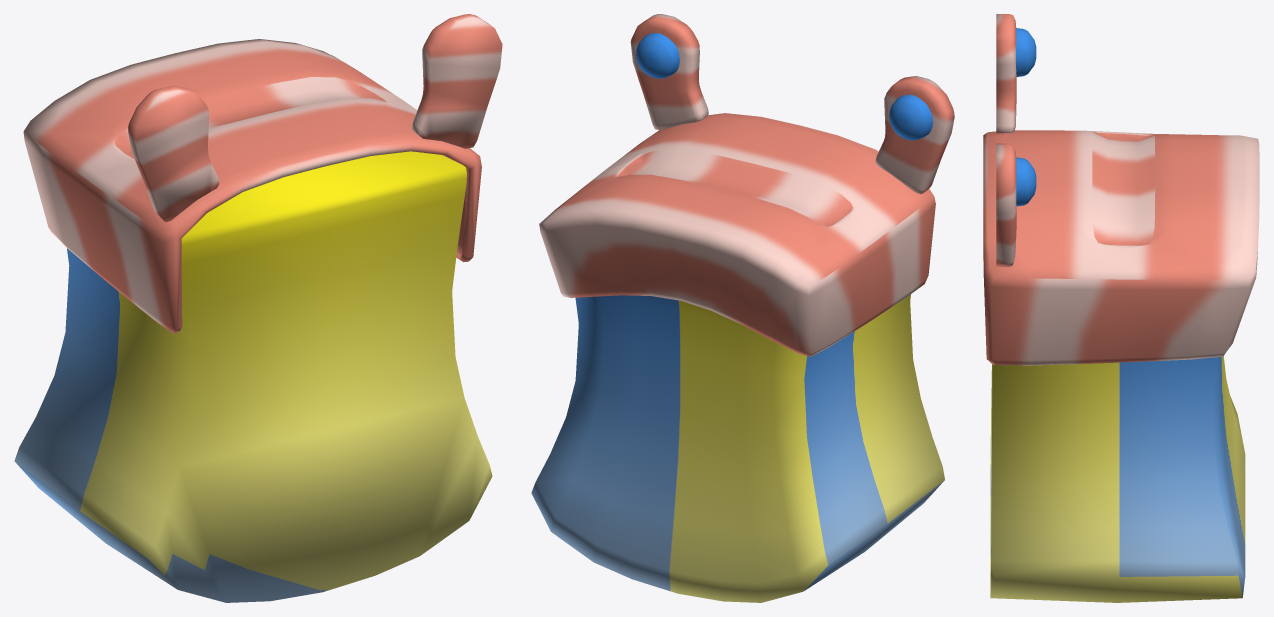
File: MailboxC_purple.fbx
The picture shows the model from 3 angles, left to right: view 1: azimuth 30°, elevation 25°; view 2: azimuth 150°, elevation 25°; view 3: azimuth 270°, elevation 25°; orthographic projection. The views are drawn at different scales.
Visible parts, largest first — view 1: MailboxC_base.001, MailboxC_lid.001; view 2: MailboxC_base.001, MailboxC_lid.001, MailboxC_buttons.001; view 3: MailboxC_lid.001, MailboxC_base.001, MailboxC_buttons.001.
Part boxes in pixels (bbox=[...]): MailboxC_base.001: bbox=[14, 151, 492, 602]; MailboxC_lid.001: bbox=[23, 14, 502, 333]; MailboxC_base.001: bbox=[531, 294, 944, 602]; MailboxC_lid.001: bbox=[539, 14, 954, 356]; MailboxC_buttons.001: bbox=[636, 33, 933, 140]; MailboxC_lid.001: bbox=[983, 14, 1259, 365]; MailboxC_base.001: bbox=[990, 356, 1245, 602]; MailboxC_buttons.001: bbox=[1016, 28, 1036, 206].
Size of the model in its own units: 114 by 160 by 82.11.
